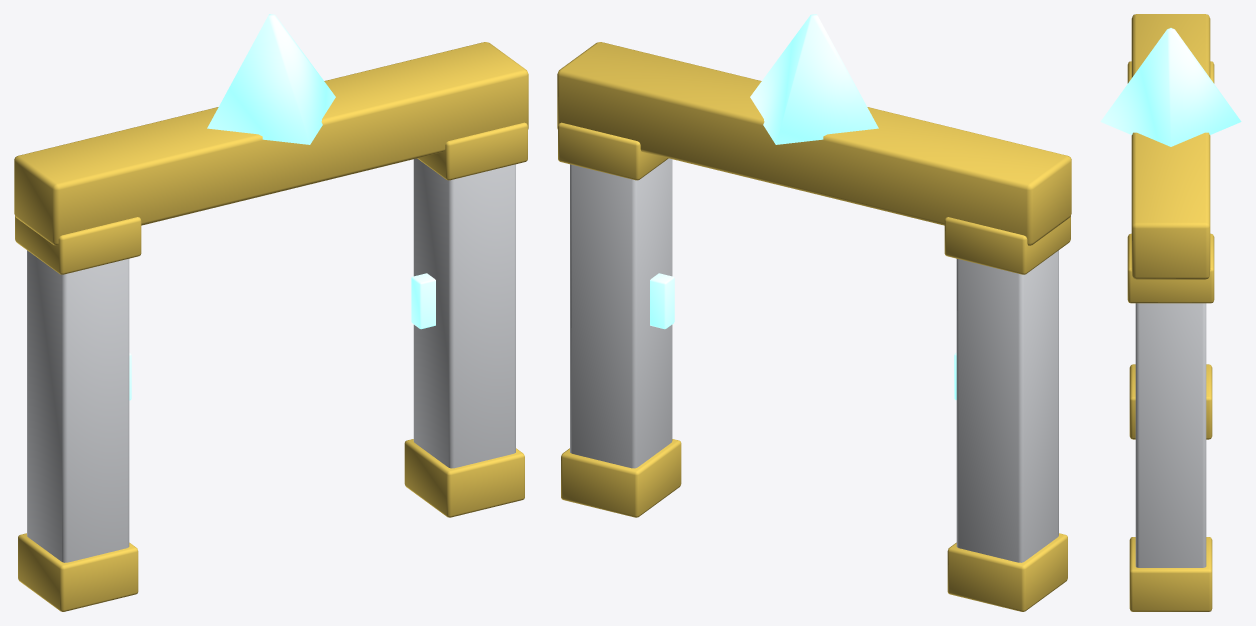
Rendered from prop_asgard_archway.glb.
3 renders of one model, left to right at view 1: azimuth 30°, elevation 25°; view 2: azimuth 150°, elevation 25°; view 3: azimuth 270°, elevation 25°, orthographic. The views are drawn at different scales.
Parts seen in each view (by area): view 1: arch_beam, pillar_-1, pillar_1, crest, trim_-1, trim_1, cap_-1, cap_1, lantern_1; view 2: arch_beam, pillar_-1, pillar_1, crest, trim_-1, trim_1, cap_-1, cap_1, lantern_1; view 3: pillar_1, arch_beam, crest, trim_1, cap_1, trim_-1.
Part boxes in pixels (x1,y1,x2,y2): arch_beam: (14, 42, 528, 245); pillar_-1: (27, 250, 129, 562); pillar_1: (413, 158, 515, 468); crest: (207, 14, 335, 144); trim_-1: (18, 533, 138, 611); trim_1: (404, 439, 524, 517); cap_-1: (15, 216, 141, 274); cap_1: (417, 122, 527, 180); lantern_1: (411, 273, 435, 329); arch_beam: (557, 42, 1071, 245); pillar_-1: (956, 250, 1058, 562); pillar_1: (570, 158, 672, 468); crest: (750, 14, 878, 144); trim_-1: (947, 533, 1067, 611); trim_1: (561, 439, 681, 517); cap_-1: (944, 216, 1070, 274); cap_1: (558, 122, 668, 180); lantern_1: (650, 273, 674, 329); pillar_1: (1135, 303, 1206, 567); arch_beam: (1131, 14, 1210, 279); crest: (1100, 28, 1241, 146); trim_1: (1129, 537, 1212, 611); cap_1: (1127, 233, 1214, 303); trim_-1: (1129, 364, 1212, 439).
Size of the model in its own units: 12.8 by 13.5 by 3.6.
